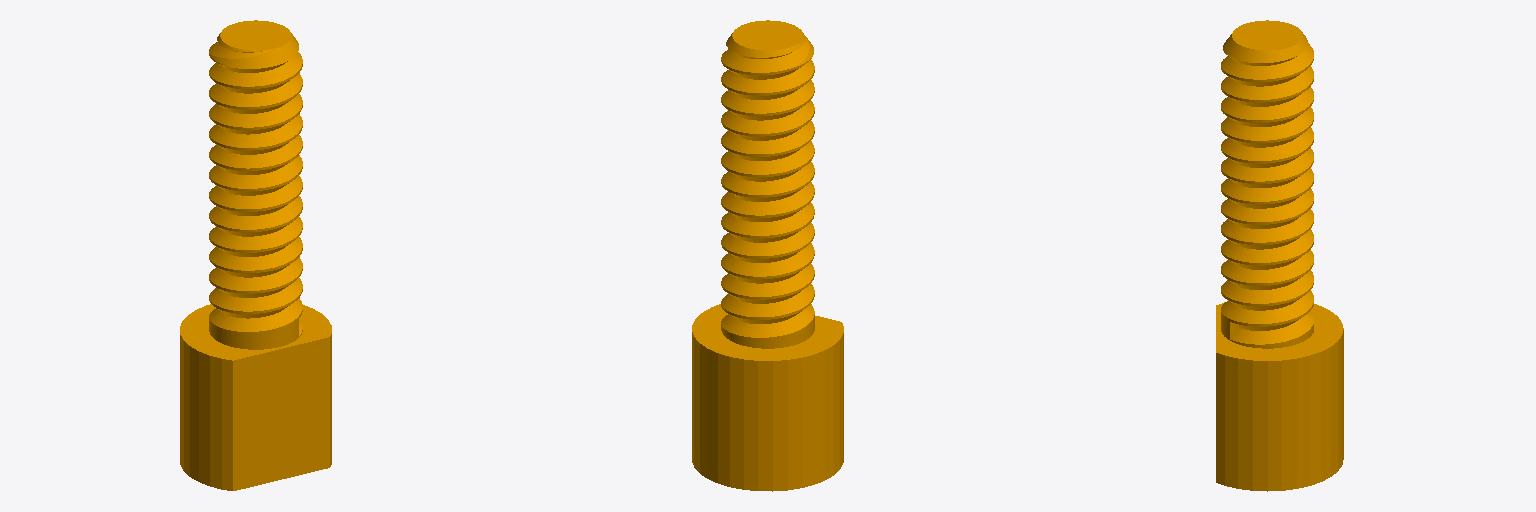
URDF robot description (bolt1):
<?xml version="1.0"?>
<robot name="bolt1">
    <link name="bolt1">
        <visual>
            <geometry>
                <mesh filename="../mesh/bolt/bolt1.obj"/>
            </geometry>
        </visual>
        <collision>
            <geometry>
                <mesh filename="../mesh/bolt/bolt1.obj"/>
            </geometry>
            <sdf resolution="512"/>
        </collision>
    </link>
</robot>

--- Facts derived from the render (not from the file) ---
The picture shows the robot from 3 angles, left to right: view 1: azimuth 30°, elevation 25°; view 2: azimuth 150°, elevation 25°; view 3: azimuth 270°, elevation 25°; orthographic projection.
Robot: bolt1 — 1 links, 0 joints (none); root link bolt1; default pose: all joints at 0.
Visible links, largest first — view 1: bolt1; view 2: bolt1; view 3: bolt1.
Link boxes in pixels (x1=…): bolt1: x1=180, y1=20, x2=331, y2=490; bolt1: x1=692, y1=20, x2=843, y2=491; bolt1: x1=1216, y1=20, x2=1343, y2=491.
Size in the robot's own frame: 0.028 by 0.0234 by 0.086 metres.
1 mesh visuals loaded from 1 distinct referenced files (1 OBJ).
